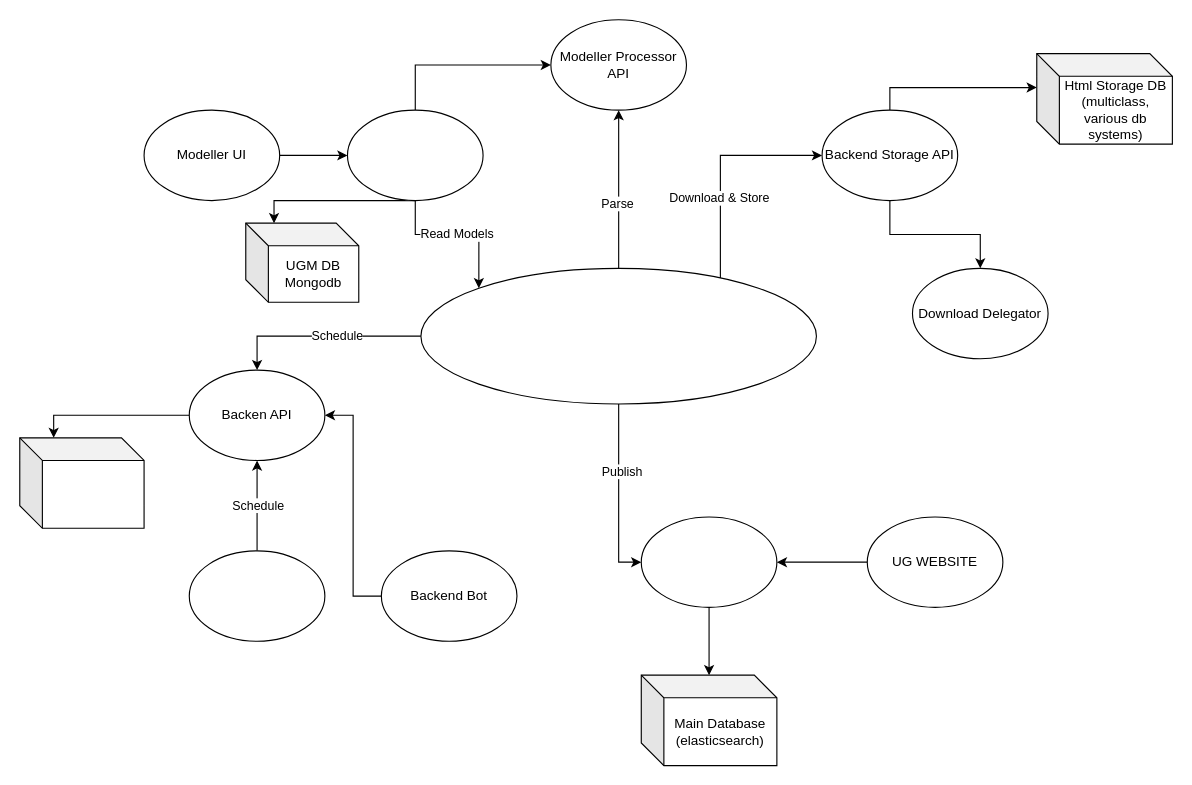
Some shapes in this 1192 by 785 pixel diagram are drawn without their labels. Each missing label, with the box of its shape:
Backend Scheduler: (188, 550, 325, 641)
Modeller API: (346, 109, 483, 201)
Processor: (420, 267, 816, 404)
UG API: (640, 516, 777, 607)
UG Pageref DB Mongodb: (19, 437, 144, 528)
